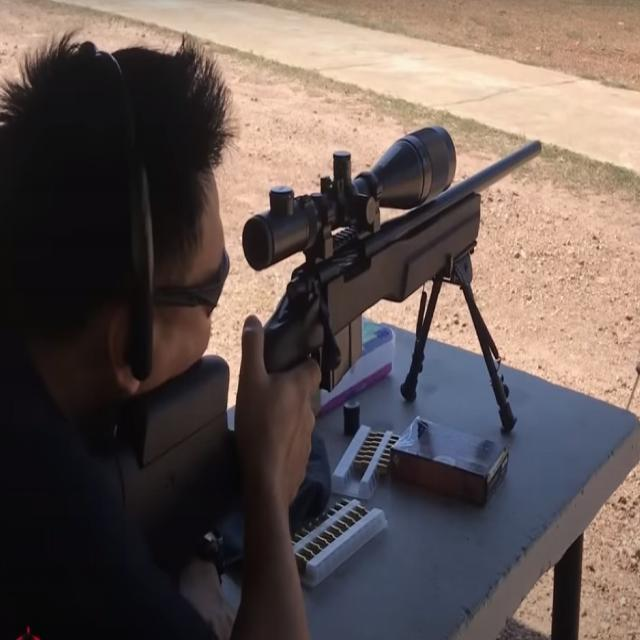rifle: (101, 100, 546, 580)
